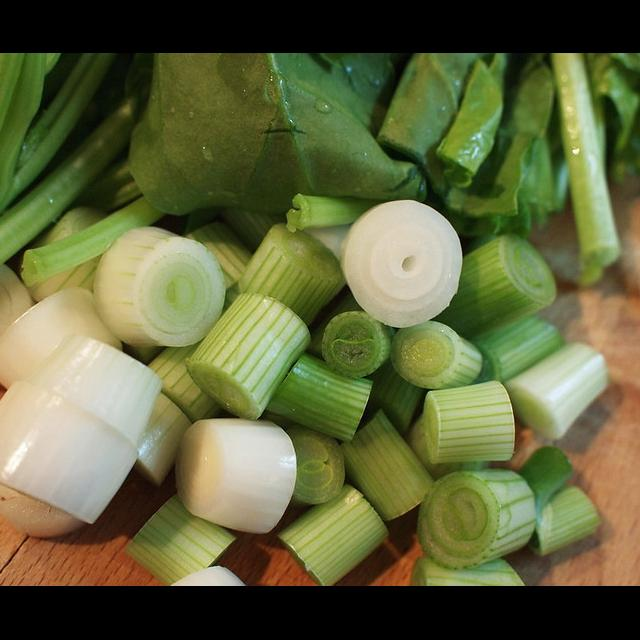green_onion: (0, 198, 608, 586)
